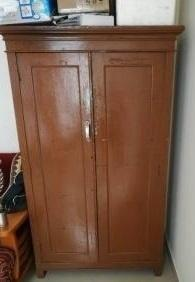Armario: (0, 22, 186, 277)
